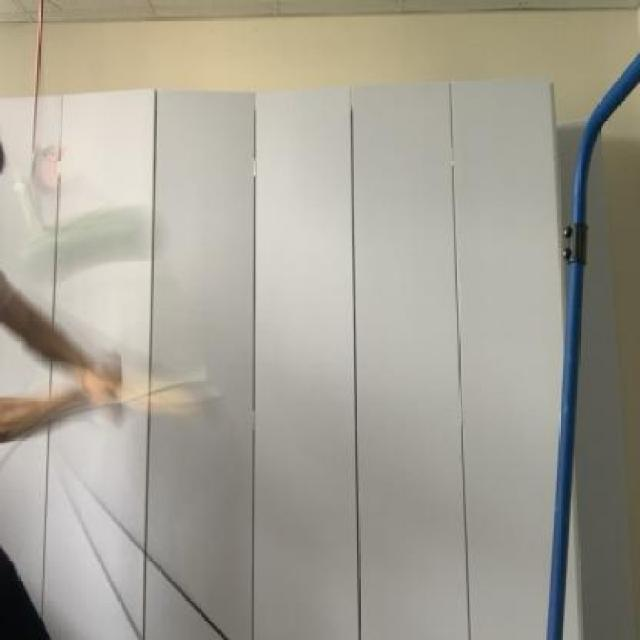baseball: (15, 200, 173, 282)
